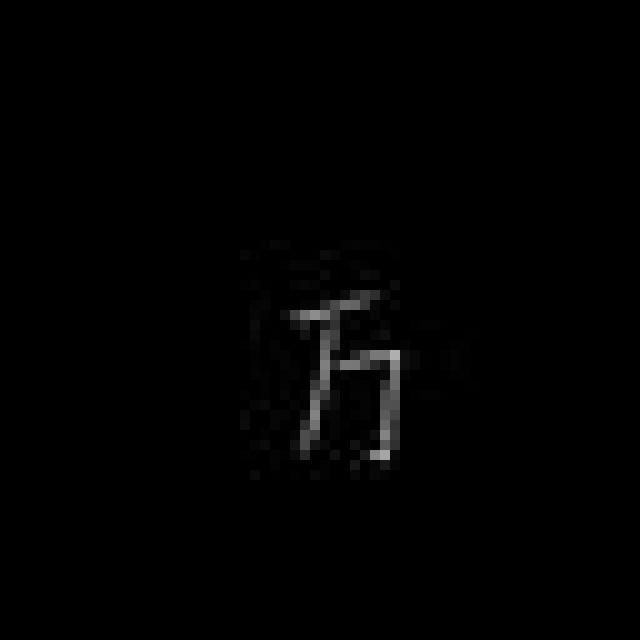10000 -a ten thousand-: (276, 269, 418, 481)
